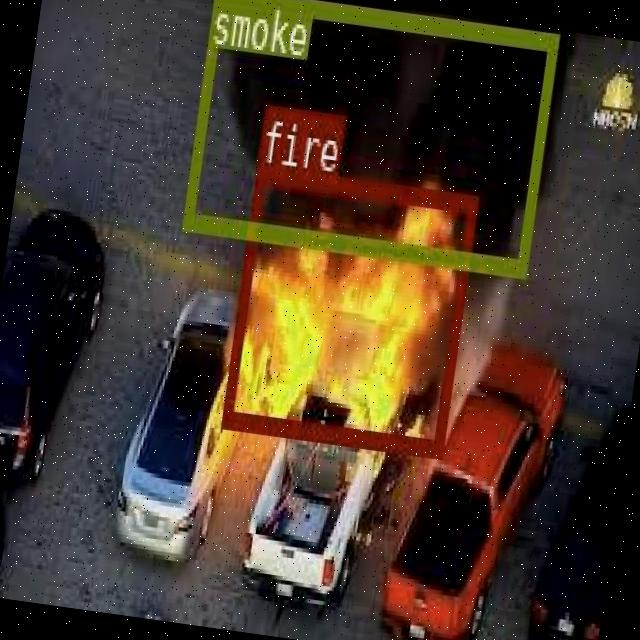fire: (220, 162, 477, 453)
smoke: (181, 0, 558, 273)
